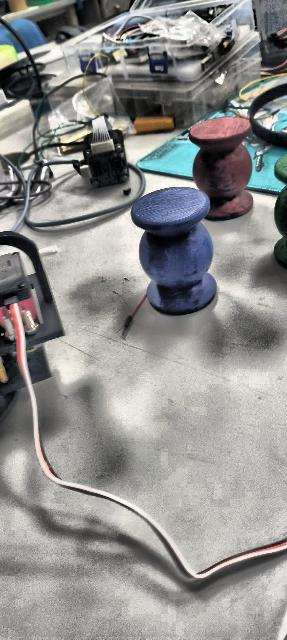blue: (130, 186, 218, 316)
green: (270, 146, 287, 275)
red: (182, 114, 256, 221)
